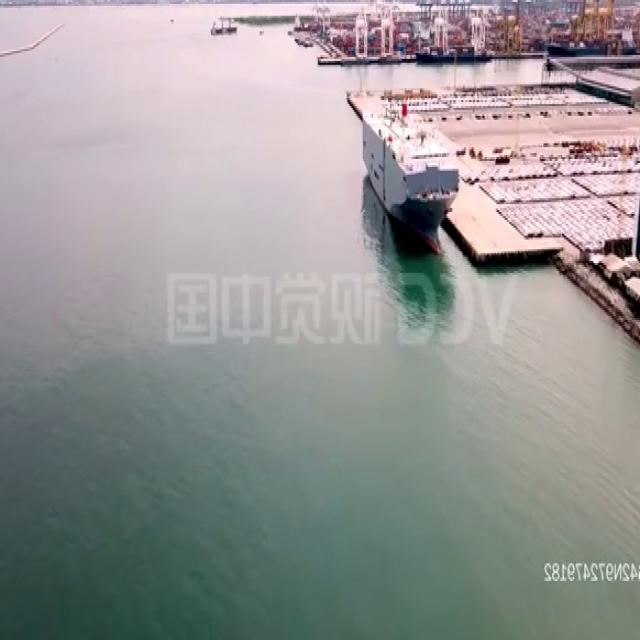cargoship: (361, 102, 463, 255)
